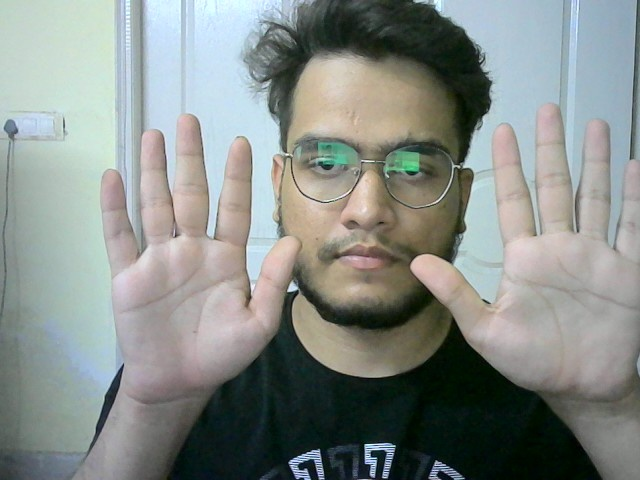Hello: (92, 112, 299, 406)
